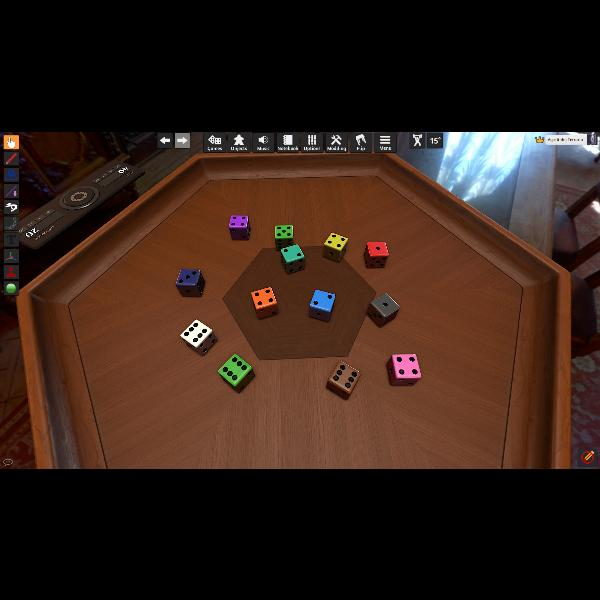d6: (325, 359, 359, 399), (180, 319, 216, 355), (218, 354, 252, 392), (367, 292, 399, 328), (386, 353, 418, 385), (176, 268, 206, 298), (310, 289, 336, 321), (251, 286, 277, 318), (279, 243, 303, 273), (365, 240, 389, 268), (324, 232, 346, 262), (274, 224, 294, 250), (228, 214, 248, 240)
